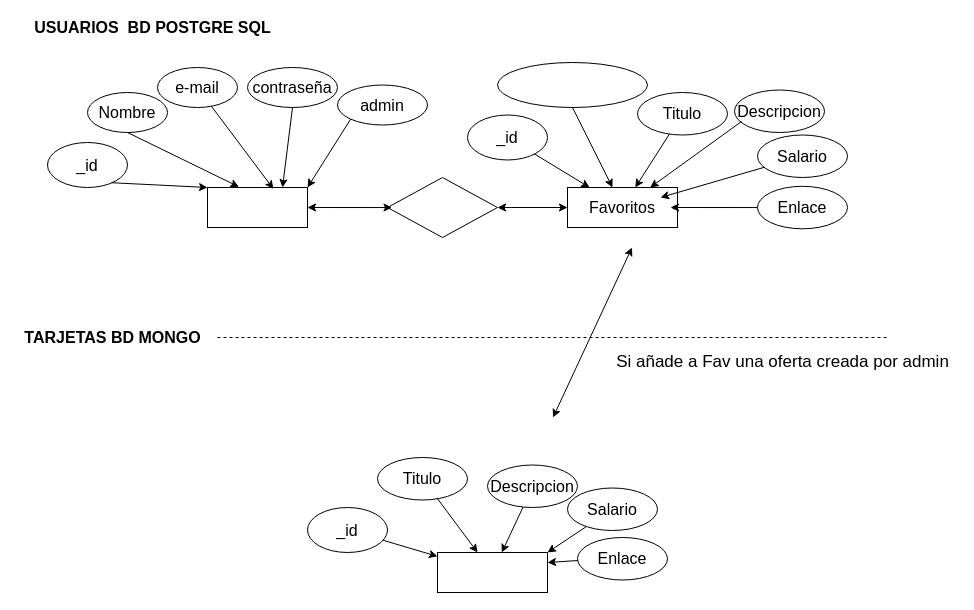
The diagram is 974 pixels wide and 610 high, and some of its shapes have lost their labels. Here are the shapes that lost their labels. From the top down, the box of each, then its label:
(496, 62, 648, 108): foreign_key_usuario
(206, 186, 308, 228): USUARIOS
(386, 176, 498, 238): 1:N
(436, 552, 548, 592): Oferta_Admin
